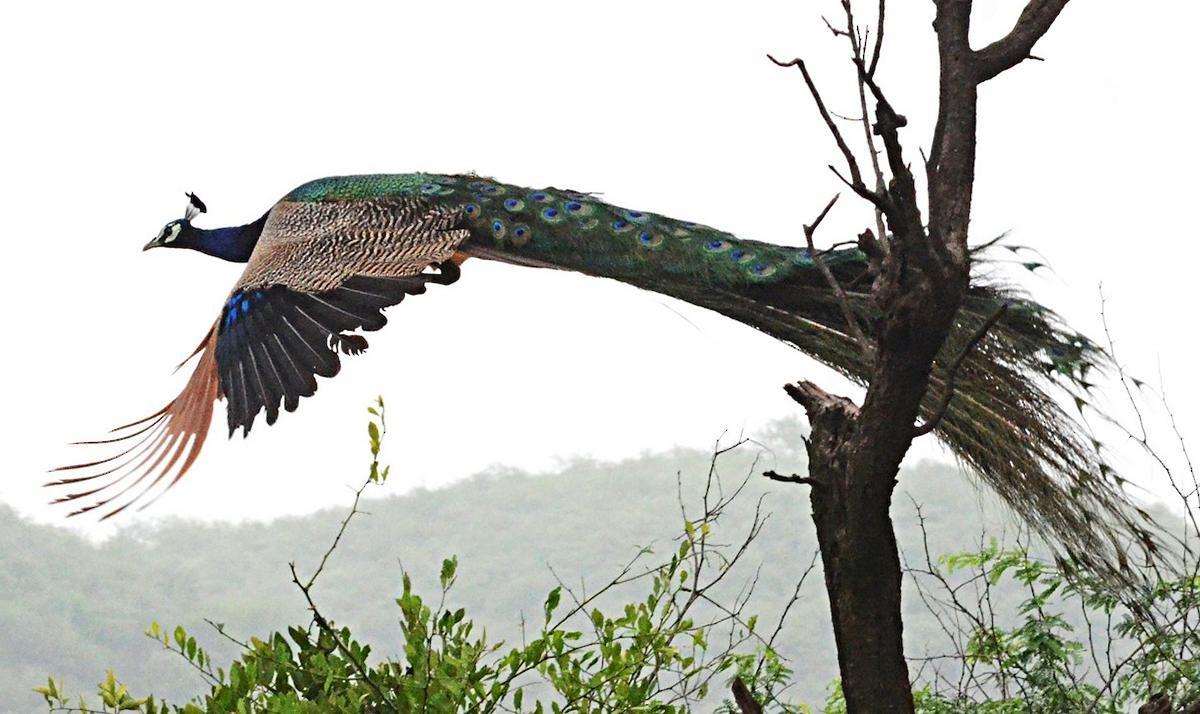peacock: (117, 147, 1025, 465)
